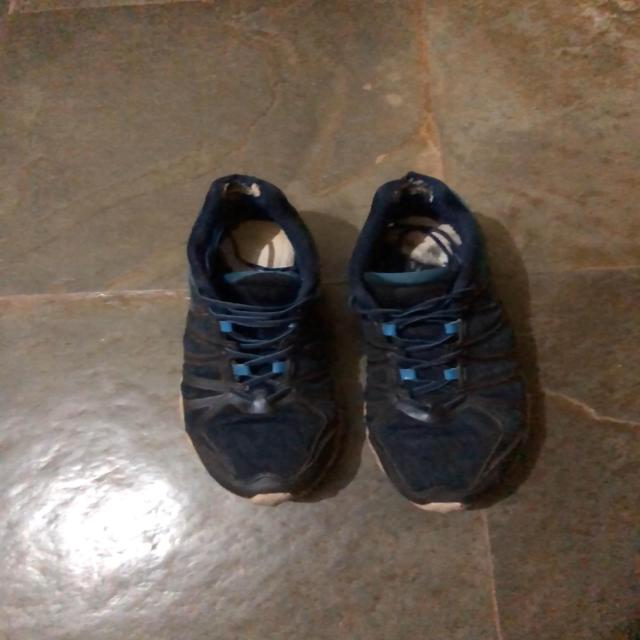shoe: (347, 173, 529, 510), (180, 174, 349, 507)
